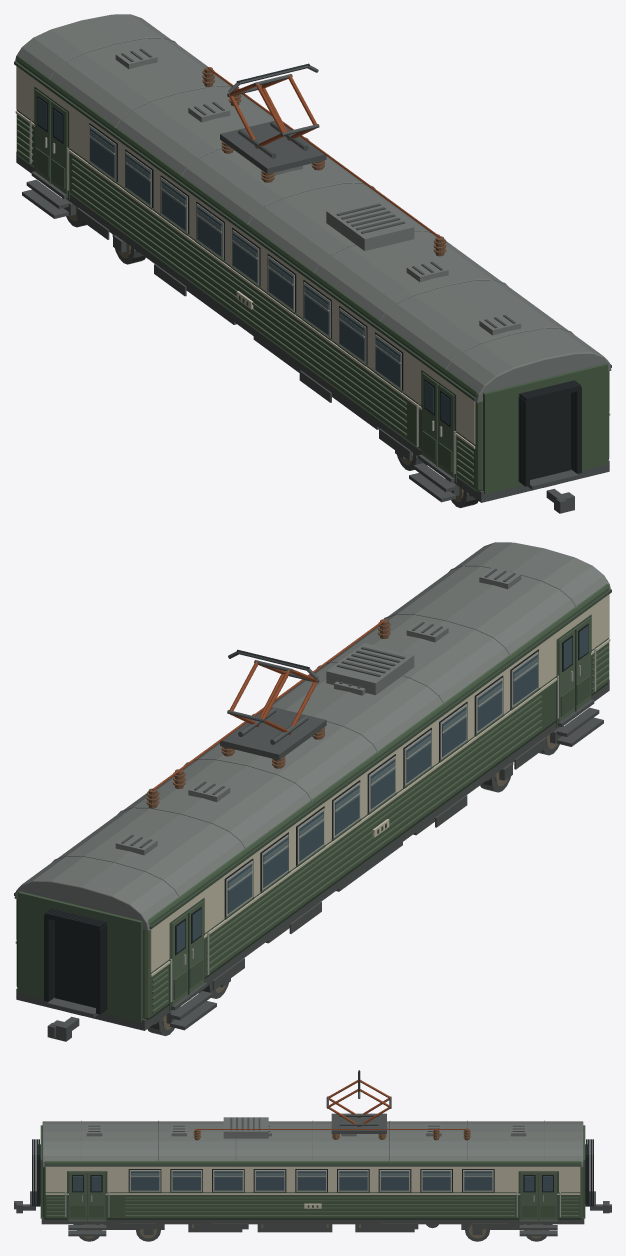
File: ed4m_motor.glb
3 renders of one model, top to bottom at view 1: azimuth 30°, elevation 25°; view 2: azimuth 150°, elevation 25°; view 3: azimuth 270°, elevation 25°, orthographic. The views are drawn at different scales.
Parts seen in each view (by area): view 1: motor / 05 / zinc grey roof, motor / 01 / faded bottle green, motor / 06 / underframe steel, motor / 02 / raised body details, motor / 04 / warm ivory trim, motor / 07 / rubber and gaskets, motor / 08 / opaque blue smoke glass, motor / 03 / door recesses, motor / 15 / window metal frames, motor / 13 / pantograph red steel, motor / 09 / glass reflection, motor / 14 / glazed brown ceramic; view 2: motor / 05 / zinc grey roof, motor / 01 / faded bottle green, motor / 06 / underframe steel, motor / 02 / raised body details, motor / 04 / warm ivory trim, motor / 07 / rubber and gaskets, motor / 08 / opaque blue smoke glass, motor / 03 / door recesses, motor / 15 / window metal frames, motor / 13 / pantograph red steel, motor / 09 / glass reflection, motor / 14 / glazed brown ceramic; view 3: motor / 05 / zinc grey roof, motor / 01 / faded bottle green, motor / 06 / underframe steel, motor / 02 / raised body details, motor / 04 / warm ivory trim, motor / 08 / opaque blue smoke glass, motor / 03 / door recesses, motor / 07 / rubber and gaskets, motor / 15 / window metal frames, motor / 09 / glass reflection, motor / 13 / pantograph red steel, motor / 16 / brake dust (+1 smaller).
Boxes of the visible parts, box(x1,y1,x2,y2) form: motor / 05 / zinc grey roof: box(15, 14, 611, 403); motor / 01 / faded bottle green: box(16, 56, 609, 494); motor / 06 / underframe steel: box(16, 48, 609, 513); motor / 02 / raised body details: box(16, 89, 473, 484); motor / 04 / warm ivory trim: box(15, 66, 610, 448); motor / 07 / rubber and gaskets: box(37, 63, 581, 486); motor / 08 / opaque blue smoke glass: box(37, 98, 449, 424); motor / 03 / door recesses: box(14, 61, 611, 482); motor / 15 / window metal frames: box(29, 120, 455, 473); motor / 13 / pantograph red steel: box(207, 67, 440, 238); motor / 09 / glass reflection: box(90, 131, 399, 364); motor / 14 / glazed brown ceramic: box(202, 67, 446, 256); motor / 05 / zinc grey roof: box(14, 542, 610, 931); motor / 01 / faded bottle green: box(16, 584, 609, 1022); motor / 06 / underframe steel: box(16, 568, 609, 1041); motor / 02 / raised body details: box(152, 617, 609, 1012); motor / 04 / warm ivory trim: box(15, 594, 610, 976); motor / 07 / rubber and gaskets: box(44, 623, 588, 1014); motor / 08 / opaque blue smoke glass: box(176, 626, 588, 952); motor / 03 / door recesses: box(14, 589, 611, 1010); motor / 15 / window metal frames: box(170, 648, 596, 1001); motor / 13 / pantograph red steel: box(152, 619, 384, 790); motor / 09 / glass reflection: box(228, 657, 537, 891); motor / 14 / glazed brown ceramic: box(146, 619, 390, 808); motor / 05 / zinc grey roof: box(42, 1117, 583, 1167); motor / 01 / faded bottle green: box(40, 1125, 585, 1219); motor / 06 / underframe steel: box(14, 1071, 611, 1241); motor / 02 / raised body details: box(47, 1172, 578, 1220); motor / 04 / warm ivory trim: box(45, 1166, 580, 1208); motor / 08 / opaque blue smoke glass: box(73, 1171, 552, 1191); motor / 03 / door recesses: box(44, 1164, 581, 1222); motor / 07 / rubber and gaskets: box(32, 1070, 593, 1206); motor / 15 / window metal frames: box(65, 1170, 560, 1217); motor / 09 / glass reflection: box(131, 1173, 492, 1177); motor / 13 / pantograph red steel: box(197, 1080, 467, 1129); motor / 16 / brake dust: box(81, 1224, 544, 1238).
Size of the model in its own units: 4.26 by 6.33 by 23.26.
